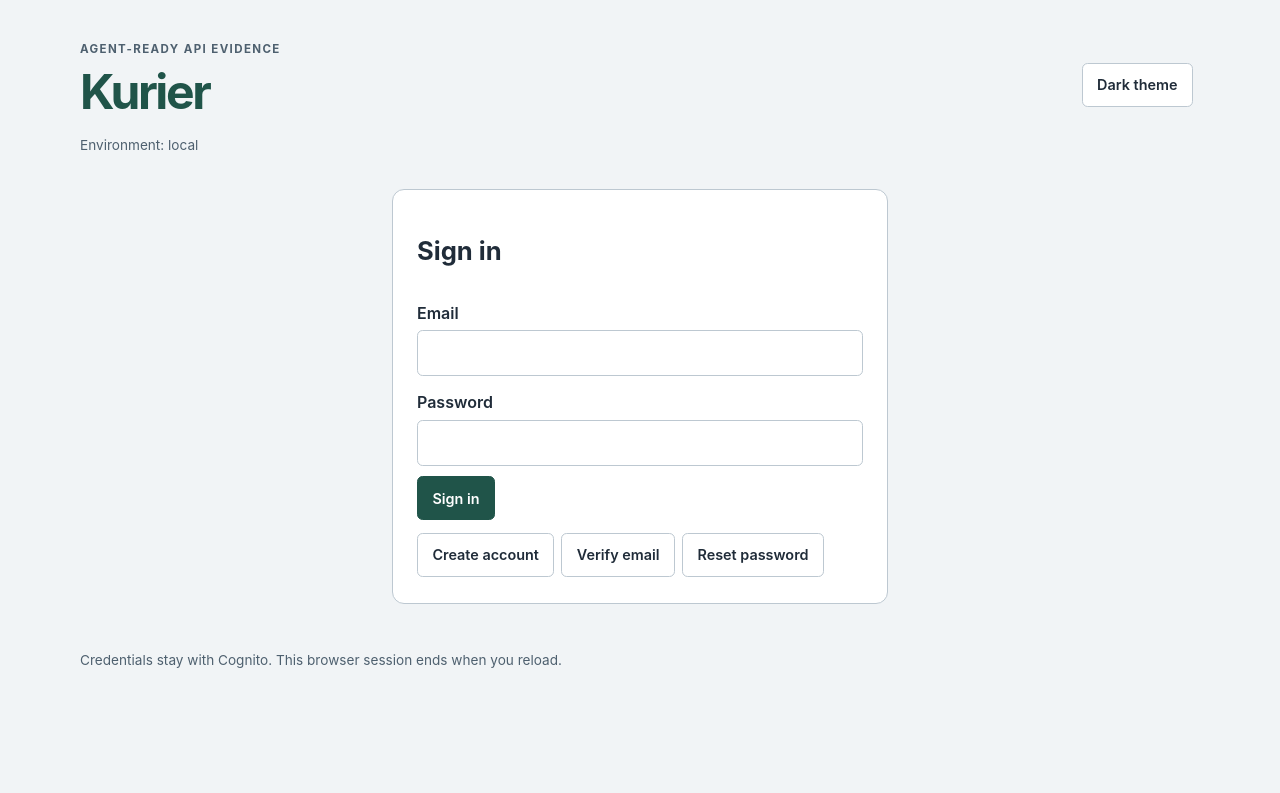
Test case: accessible authentication screens › handles invalid/expired codes without displaying Cognito internals
Click the button "Verify email": (618, 555) [562,533,675,577]
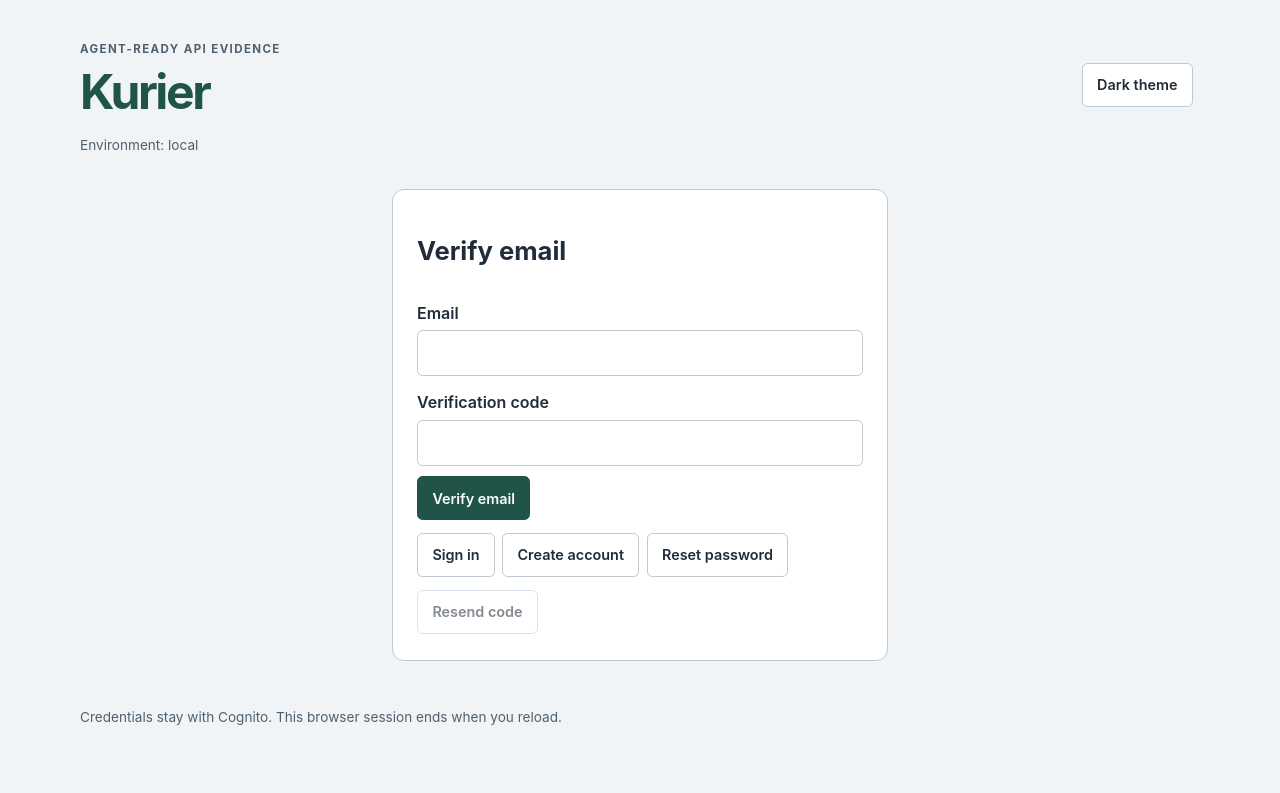
In the field labelled "Email": (640, 353) [417,330,863,376], type "fixture@example.com"
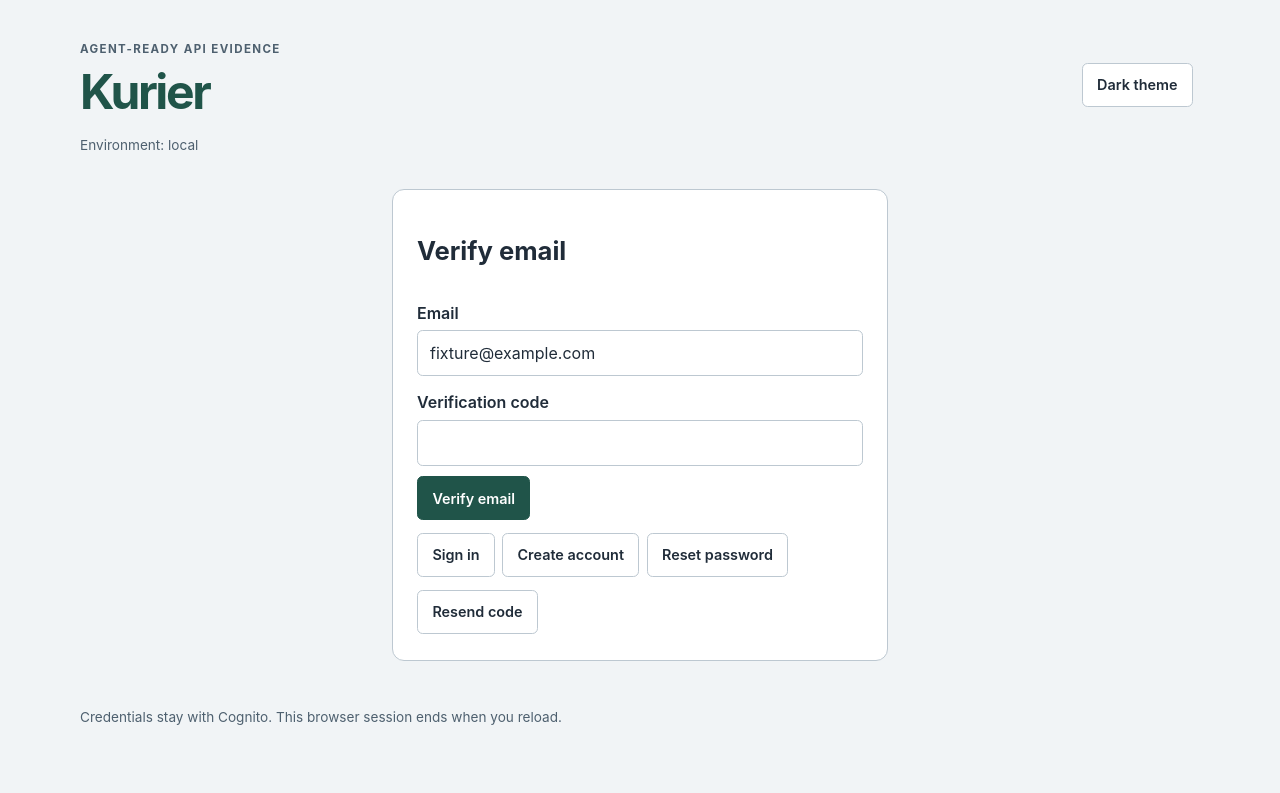
In the field labelled "Verification code": (640, 443) [417,420,863,466], type "123456"
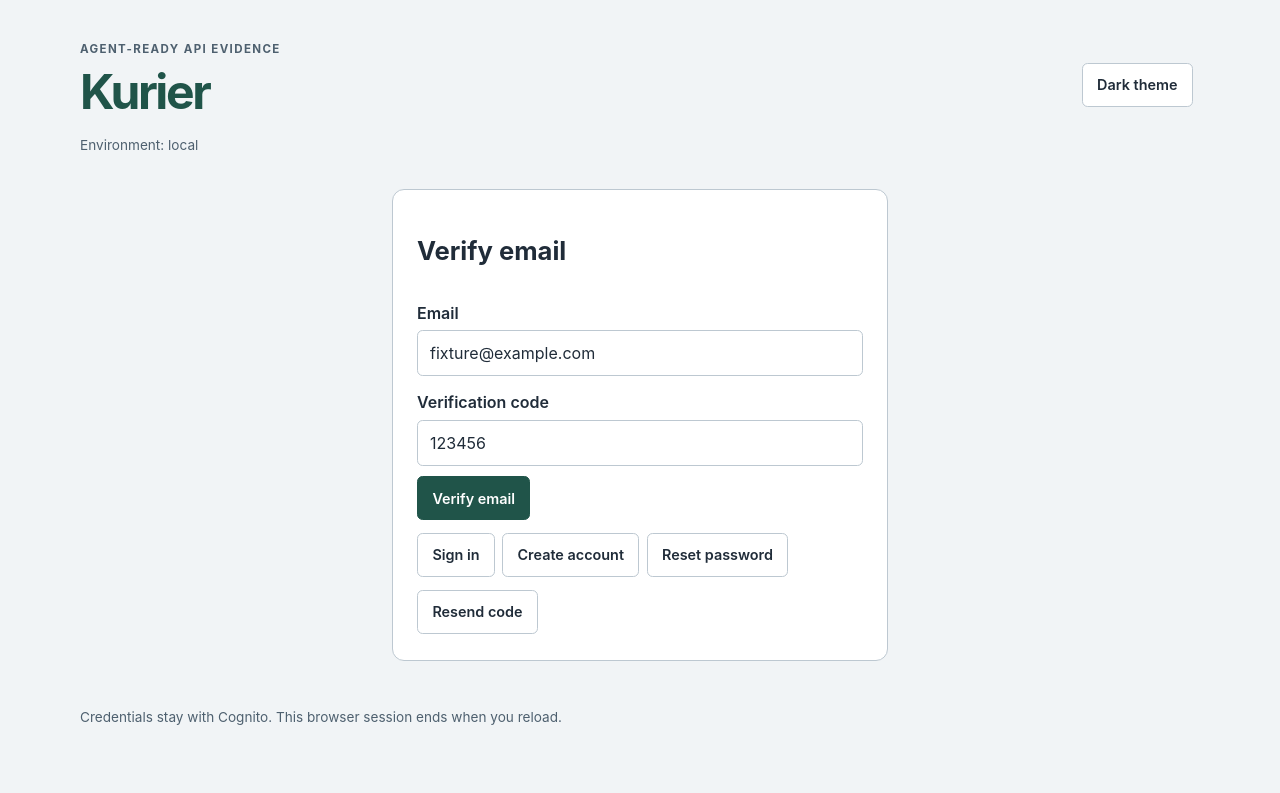
Click the button "Verify email": (474, 498) [417,476,530,520]
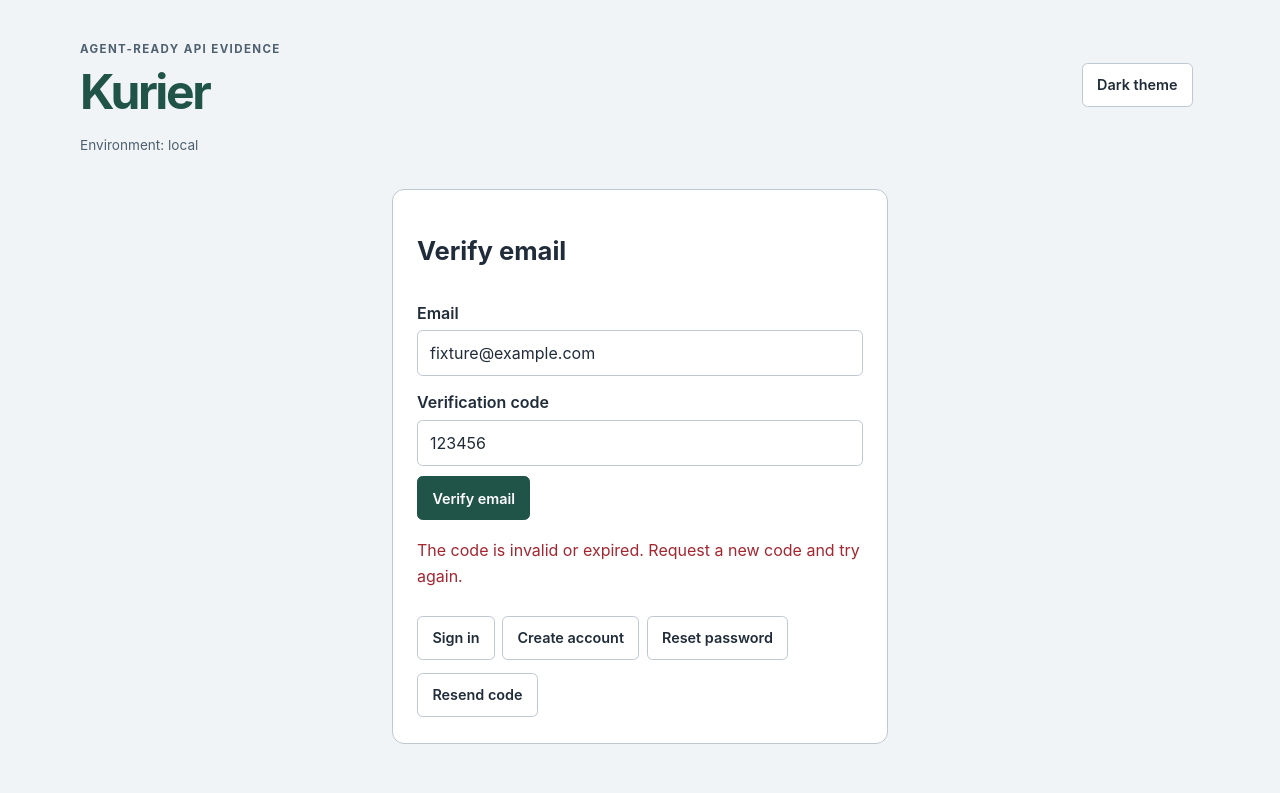
Now the text "The code is invalid or expired. Request a new code and try again." is shown, box [417,538,863,590]
